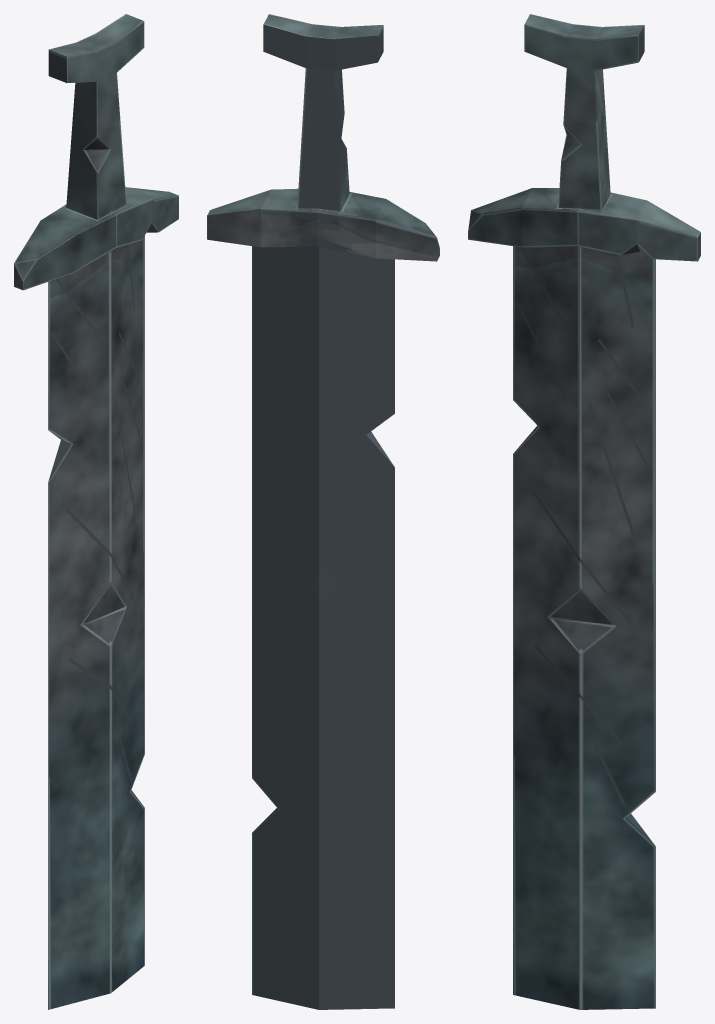
Rendered from espada 2.fbx.
3 views of the same model, side by side, from view 1: azimuth 30°, elevation 25°; view 2: azimuth 150°, elevation 25°; view 3: azimuth 330°, elevation 25° (orthographic). The views are drawn at different scales.
Visible parts, largest first — view 1: espada 2; view 2: espada 2; view 3: espada 2.
Boxes of the visible parts, box(x1,y1,x2,y2) form: espada 2: box(14, 14, 178, 1009); espada 2: box(207, 14, 439, 1009); espada 2: box(468, 14, 700, 1009).
Bounding box in the file's own units: 122 × 574 × 44.05.
1 material, 1 textured.
